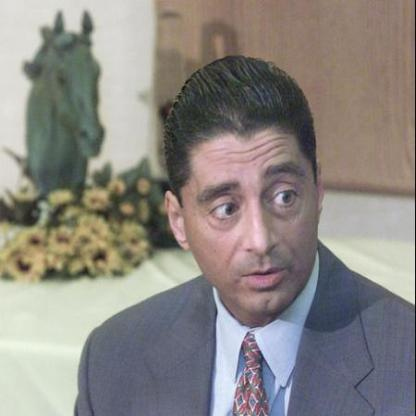face: (182, 80, 319, 322)
